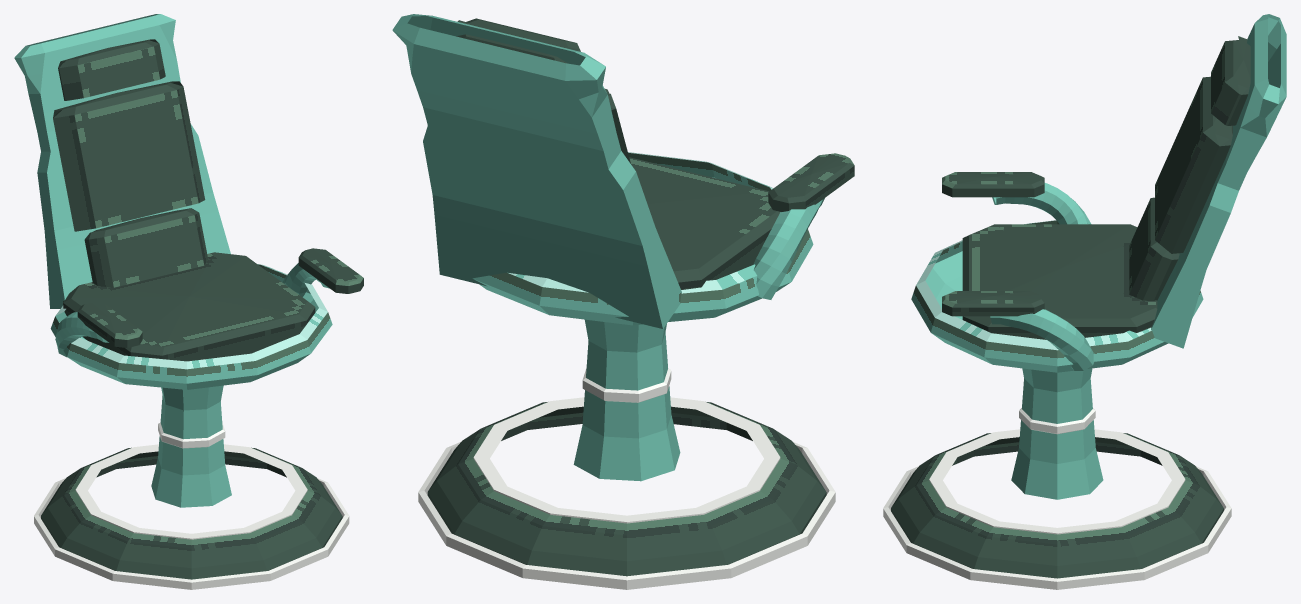
The model's file is office-chair.gltf.
The picture shows the model from 3 angles, left to right: view 1: azimuth 30°, elevation 25°; view 2: azimuth 150°, elevation 25°; view 3: azimuth 270°, elevation 25°; orthographic projection. The views are drawn at different scales.
Visible parts, largest first — view 1: BackCushion_Main, SeatCushion, PuckBase, BackRest, SeatShell, SupportPost, BackCushion_Lumbar, BackCushion_Head, PuckGlowRim, PuckTopRing, ArmPad_+1, ArmPad_-1 (+3 smaller); view 2: BackRest, PuckBase, SupportPost, SeatCushion, SeatShell, PuckGlowRim, PuckTopRing, ArmPad_-1, ArmTube_-1, BackCushion_Head, PostGlow; view 3: PuckBase, SeatCushion, BackRest, SupportPost, SeatShell, BackCushion_Main, PuckGlowRim, PuckTopRing, BackCushion_Lumbar, BackCushion_Head, ArmPad_-1, ArmPad_+1 (+3 smaller).
Part boxes in pixels (x1,y1,x2,y2): BackCushion_Main: [53, 81, 205, 231]; SeatCushion: [63, 252, 315, 361]; PuckBase: [41, 447, 342, 579]; BackRest: [14, 14, 230, 308]; SeatShell: [50, 264, 332, 389]; SupportPost: [151, 385, 231, 507]; BackCushion_Lumbar: [84, 208, 207, 287]; BackCushion_Head: [58, 39, 165, 100]; PuckGlowRim: [34, 478, 349, 589]; PuckTopRing: [75, 444, 307, 539]; ArmPad_+1: [298, 248, 363, 293]; ArmPad_-1: [77, 302, 142, 347]; BackRest: [392, 14, 681, 328]; PuckBase: [427, 402, 826, 576]; SupportPost: [573, 319, 680, 481]; SeatCushion: [629, 157, 780, 289]; SeatShell: [472, 152, 813, 325]; PuckGlowRim: [418, 442, 835, 589]; PuckTopRing: [473, 397, 780, 523]; ArmPad_-1: [768, 153, 854, 211]; ArmTube_-1: [753, 198, 824, 299]; BackCushion_Head: [456, 18, 580, 63]; PostGlow: [582, 368, 671, 402]; PuckBase: [891, 433, 1223, 578]; SeatCushion: [962, 224, 1157, 339]; BackRest: [1151, 14, 1286, 348]; SupportPost: [1011, 368, 1103, 499]; SeatShell: [911, 220, 1203, 372]; BackCushion_Main: [1155, 76, 1232, 253]; PuckGlowRim: [883, 466, 1231, 589]; PuckTopRing: [929, 429, 1185, 534]; BackCushion_Lumbar: [1129, 197, 1179, 300]; BackCushion_Head: [1211, 36, 1250, 125]; ArmPad_-1: [942, 172, 1044, 197]; ArmPad_+1: [942, 291, 1044, 316].
Size of the model in its own units: 1.36 by 2.02 by 1.58.
4 materials, 4 textured.
